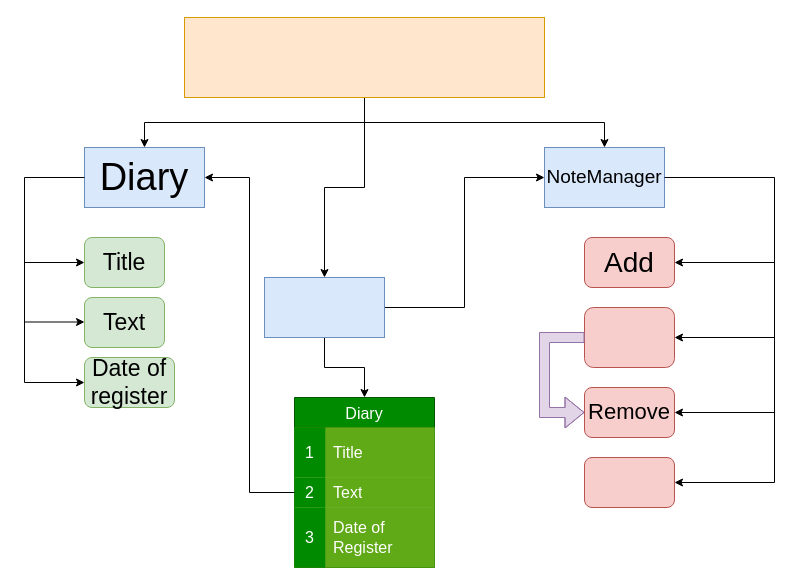
Some shapes in this 800 by 585 pixel diagram are drawn without their labels. Here are the shapes that lost their labels. From the top down, the box of each, then its label:
(184, 16, 544, 98): PROJECT
(264, 276, 384, 338): Main
(584, 306, 674, 368): FindByName
(584, 456, 674, 508): Edit
